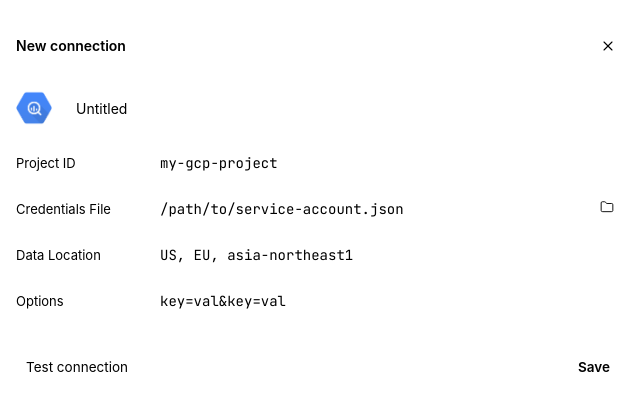
it: ConnectionEditorSheet save error rendering › clears a prior 'Connected' test result when a save fails
This screenshot has width=637, height=413.
Click the button "Test connection" at (77, 367), box [16, 354, 138, 380]
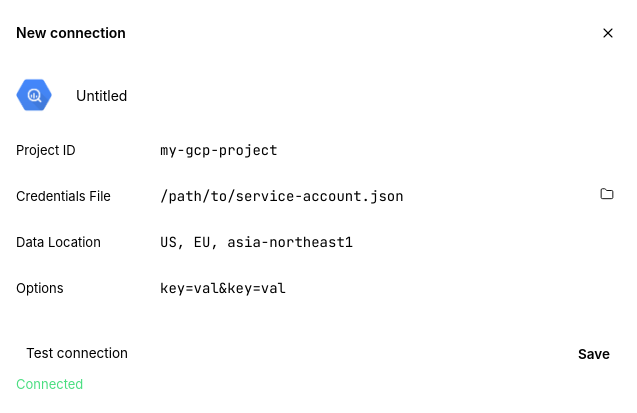
Check: the text "Connected" is shown, box [16, 376, 83, 392]
Click the button "Save" at (594, 354), box [568, 341, 620, 367]
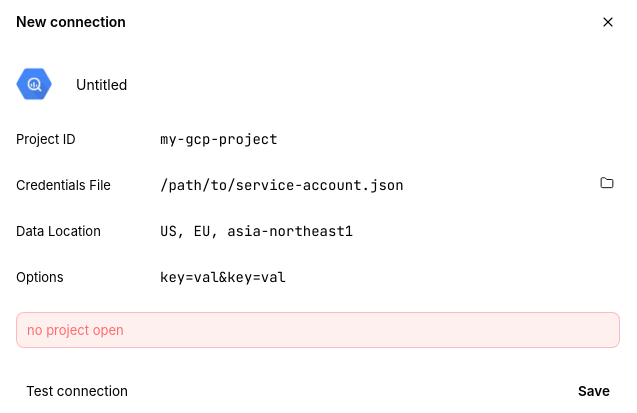
Check: the text "no project open" is shown, box [16, 312, 620, 348]
Check: the text "Connected" is gone
